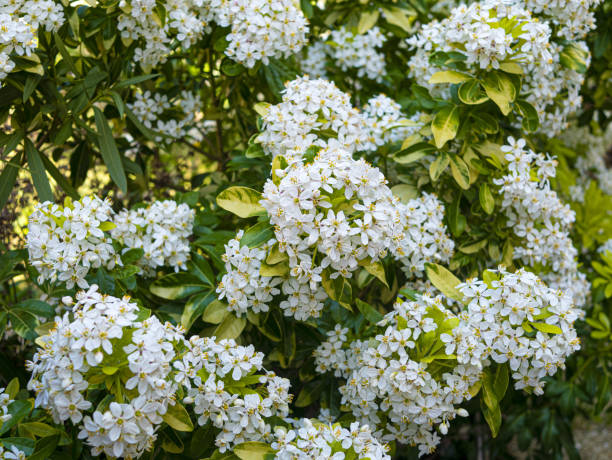flower: (98, 398, 140, 440), (53, 386, 94, 427), (83, 317, 124, 354), (124, 355, 161, 396), (56, 351, 95, 385), (125, 336, 164, 369), (406, 394, 445, 426), (26, 233, 65, 263), (449, 365, 486, 395), (190, 401, 229, 429), (221, 350, 253, 384), (174, 359, 209, 390), (495, 338, 527, 371), (546, 298, 578, 331), (317, 208, 348, 242), (293, 423, 330, 451), (105, 297, 142, 325), (333, 425, 374, 450), (346, 214, 379, 245), (143, 223, 176, 254), (56, 265, 95, 291), (277, 295, 311, 324), (237, 245, 268, 275), (349, 168, 382, 196), (467, 298, 501, 324), (391, 357, 422, 385), (318, 342, 350, 368), (528, 331, 556, 360), (513, 365, 542, 393), (5, 30, 34, 58), (501, 135, 531, 162), (501, 295, 528, 325), (298, 260, 325, 290), (490, 173, 520, 200), (290, 210, 317, 240), (385, 331, 416, 357), (407, 314, 439, 339), (252, 277, 285, 301), (70, 218, 103, 242), (307, 167, 335, 195), (212, 277, 239, 306), (266, 206, 295, 233), (325, 112, 360, 134), (238, 342, 266, 369), (20, 5, 49, 31), (517, 30, 547, 55), (115, 213, 146, 236), (369, 92, 393, 121), (333, 381, 362, 405), (309, 94, 335, 120), (405, 234, 432, 259), (256, 13, 280, 40), (364, 344, 388, 371), (255, 180, 283, 203), (268, 376, 297, 398), (265, 428, 295, 449), (254, 38, 275, 67), (325, 324, 353, 345), (236, 41, 260, 65), (240, 404, 263, 429), (270, 109, 292, 135), (373, 330, 395, 355), (346, 340, 373, 360), (515, 220, 541, 240), (366, 26, 387, 49)
